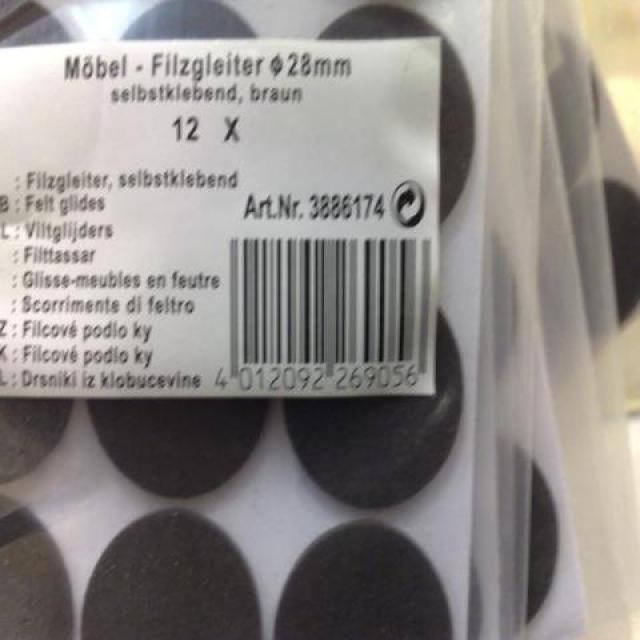Barcode: (213, 226, 438, 394)
